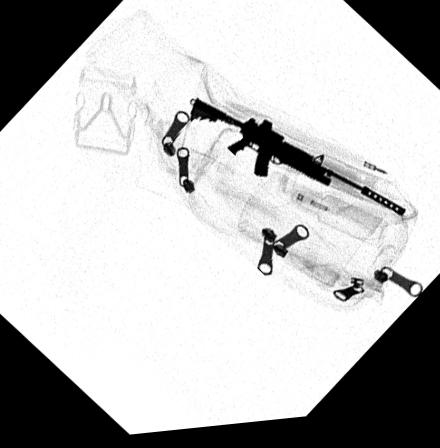Gun: (188, 103, 409, 228)
